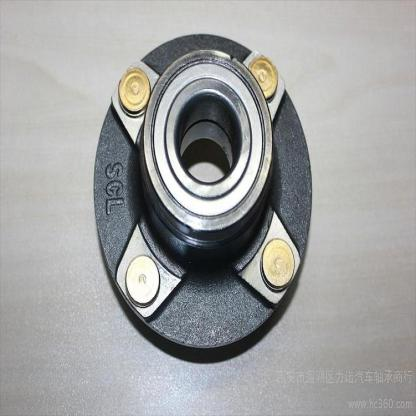FOD: (90, 26, 318, 364)
